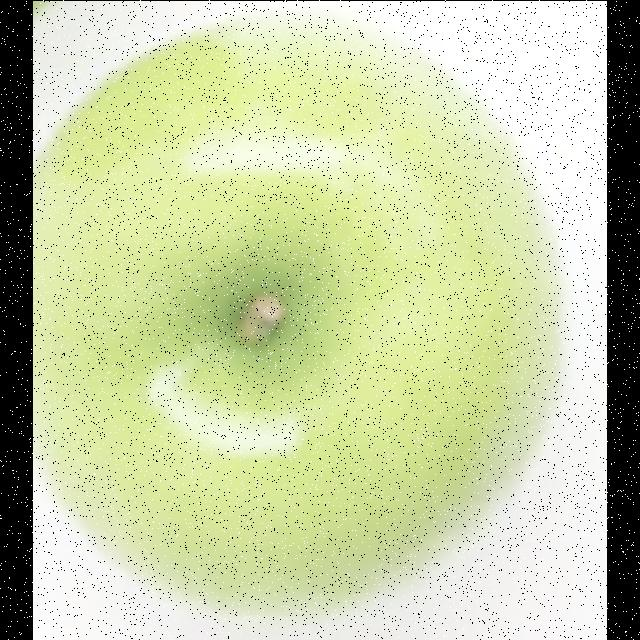Apel Segar: (34, 0, 578, 638)
